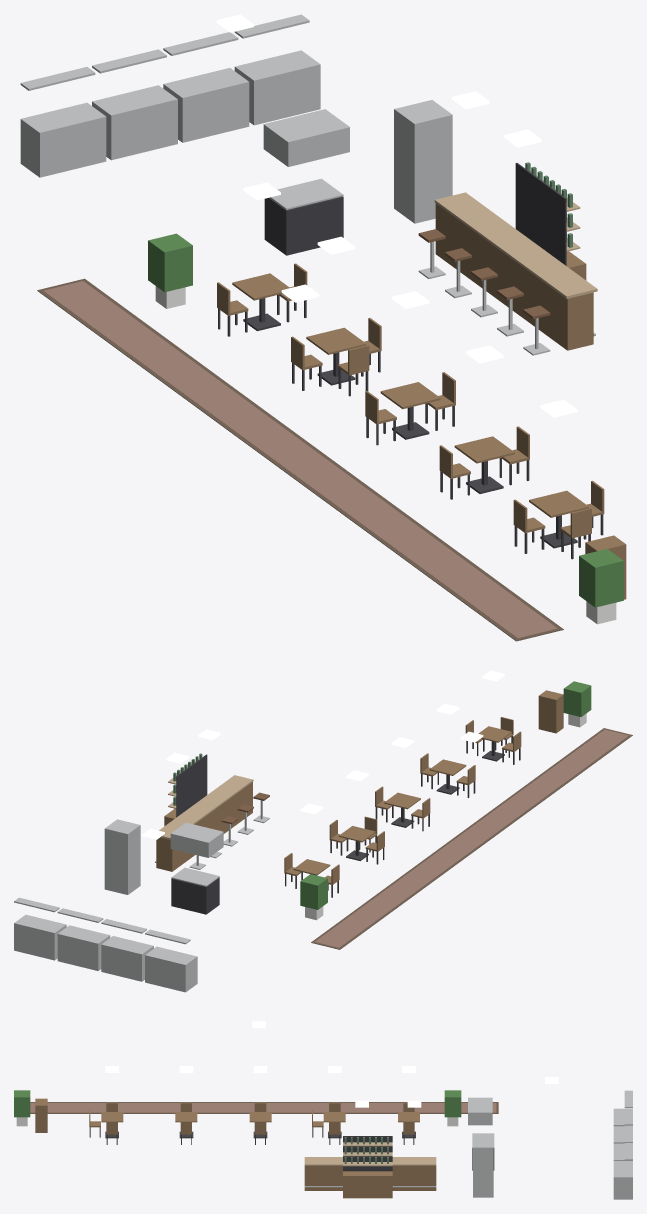
File: fine-s0.glb
3 views of the same model, one above another, from view 1: azimuth 30°, elevation 25°; view 2: azimuth 150°, elevation 25°; view 3: azimuth 270°, elevation 25° (orthographic). The views are drawn at different scales.
Visible parts, largest first — view 1: soft-s0, range.000, fridge.000, kitchen-counter.000, kitchen-counter.002, kitchen-counter.001, kitchen-counter.003, back-bar.000, bar-counter.003, plant-medium.000, plant-medium.001, bar-counter.001 (+9 smaller); view 2: soft-s0, range.000, fridge.000, kitchen-counter.000, kitchen-counter.002, kitchen-counter.001, kitchen-counter.003, back-bar.000, plant-medium.000, plant-medium.001, bar-counter.000, host-stand.000 (+7 smaller); view 3: soft-s0, back-bar.000, fridge.000, bar-counter.000, bar-counter.003, range.000, kitchen-counter.003, plant-medium.001, plant-medium.000, host-stand.000, bar-counter.001, kitchen-counter.000 (+7 smaller).
Part boxes in pixels (x1,y1,x2,y2): soft-s0: (37, 278, 563, 641); range.000: (263, 109, 349, 255); fridge.000: (394, 100, 452, 223); kitchen-counter.000: (20, 67, 106, 177); kitchen-counter.002: (163, 32, 249, 142); kitchen-counter.001: (92, 49, 177, 160); kitchen-counter.003: (234, 14, 320, 125); back-bar.000: (515, 162, 586, 280); bar-counter.003: (533, 265, 597, 350); plant-medium.000: (579, 549, 623, 624); plant-medium.001: (148, 233, 192, 308); bar-counter.001: (467, 216, 530, 302); soft-s0: (311, 728, 632, 949); range.000: (170, 822, 223, 914); fridge.000: (104, 819, 140, 894); kitchen-counter.000: (145, 929, 197, 992); kitchen-counter.002: (57, 908, 110, 970); kitchen-counter.001: (101, 919, 153, 981); kitchen-counter.003: (14, 897, 66, 960); back-bar.000: (164, 753, 207, 825); plant-medium.000: (563, 681, 591, 727); plant-medium.001: (300, 874, 327, 920); bar-counter.000: (155, 819, 192, 871); host-stand.000: (538, 690, 563, 733); soft-s0: (30, 1102, 498, 1113); back-bar.000: (343, 1136, 392, 1198); fridge.000: (473, 1138, 493, 1197); bar-counter.000: (403, 1157, 436, 1190); bar-counter.003: (304, 1157, 337, 1190); range.000: (468, 1097, 494, 1170); kitchen-counter.003: (613, 1143, 632, 1199); plant-medium.001: (444, 1090, 461, 1126); plant-medium.000: (14, 1090, 30, 1126); host-stand.000: (35, 1098, 47, 1132); bar-counter.001: (392, 1157, 403, 1190); kitchen-counter.000: (613, 1090, 632, 1126).
Size of the model in its own units: 8.37 by 3.37 by 22.52.
